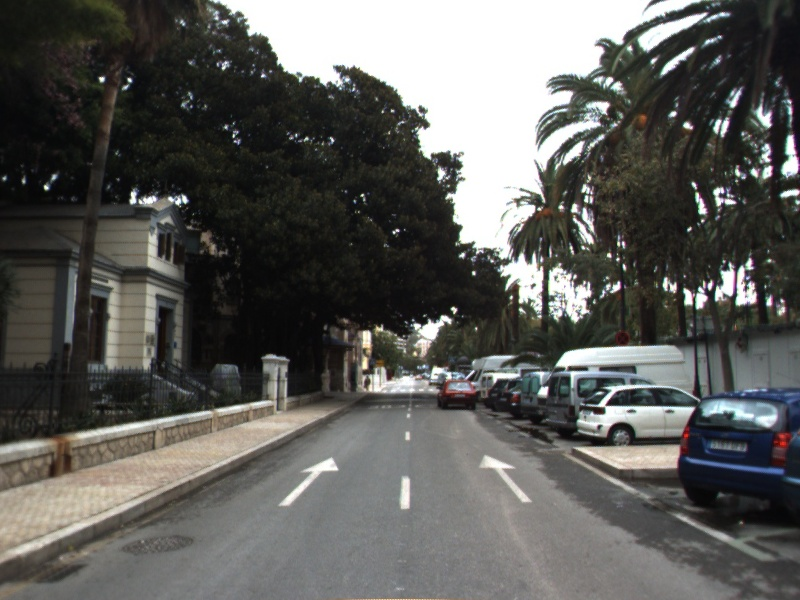STRAIGHT: (276, 455, 341, 509), (476, 452, 535, 504)
